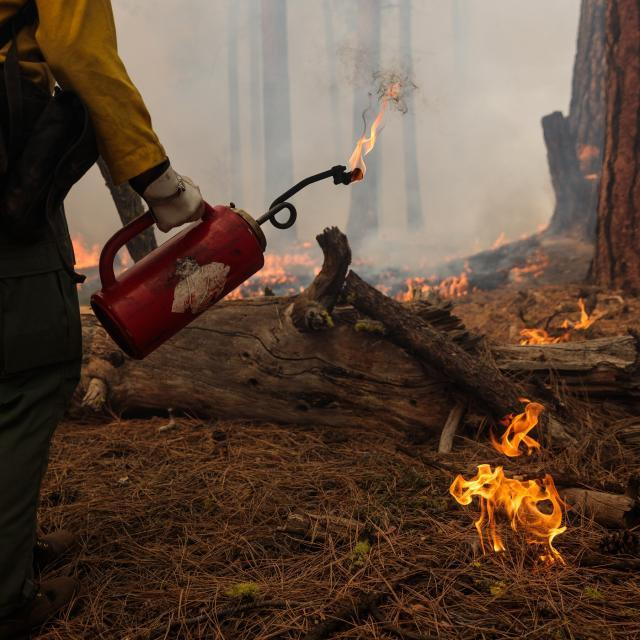Fire: (452, 462, 570, 568), (378, 233, 486, 302), (224, 240, 322, 300), (517, 301, 603, 349), (488, 396, 548, 456), (349, 100, 389, 177), (69, 235, 132, 270), (508, 248, 558, 285), (490, 220, 548, 250), (578, 138, 604, 184)
Smoke: (116, 0, 344, 162), (426, 0, 576, 231), (358, 190, 480, 270), (342, 46, 420, 116)
